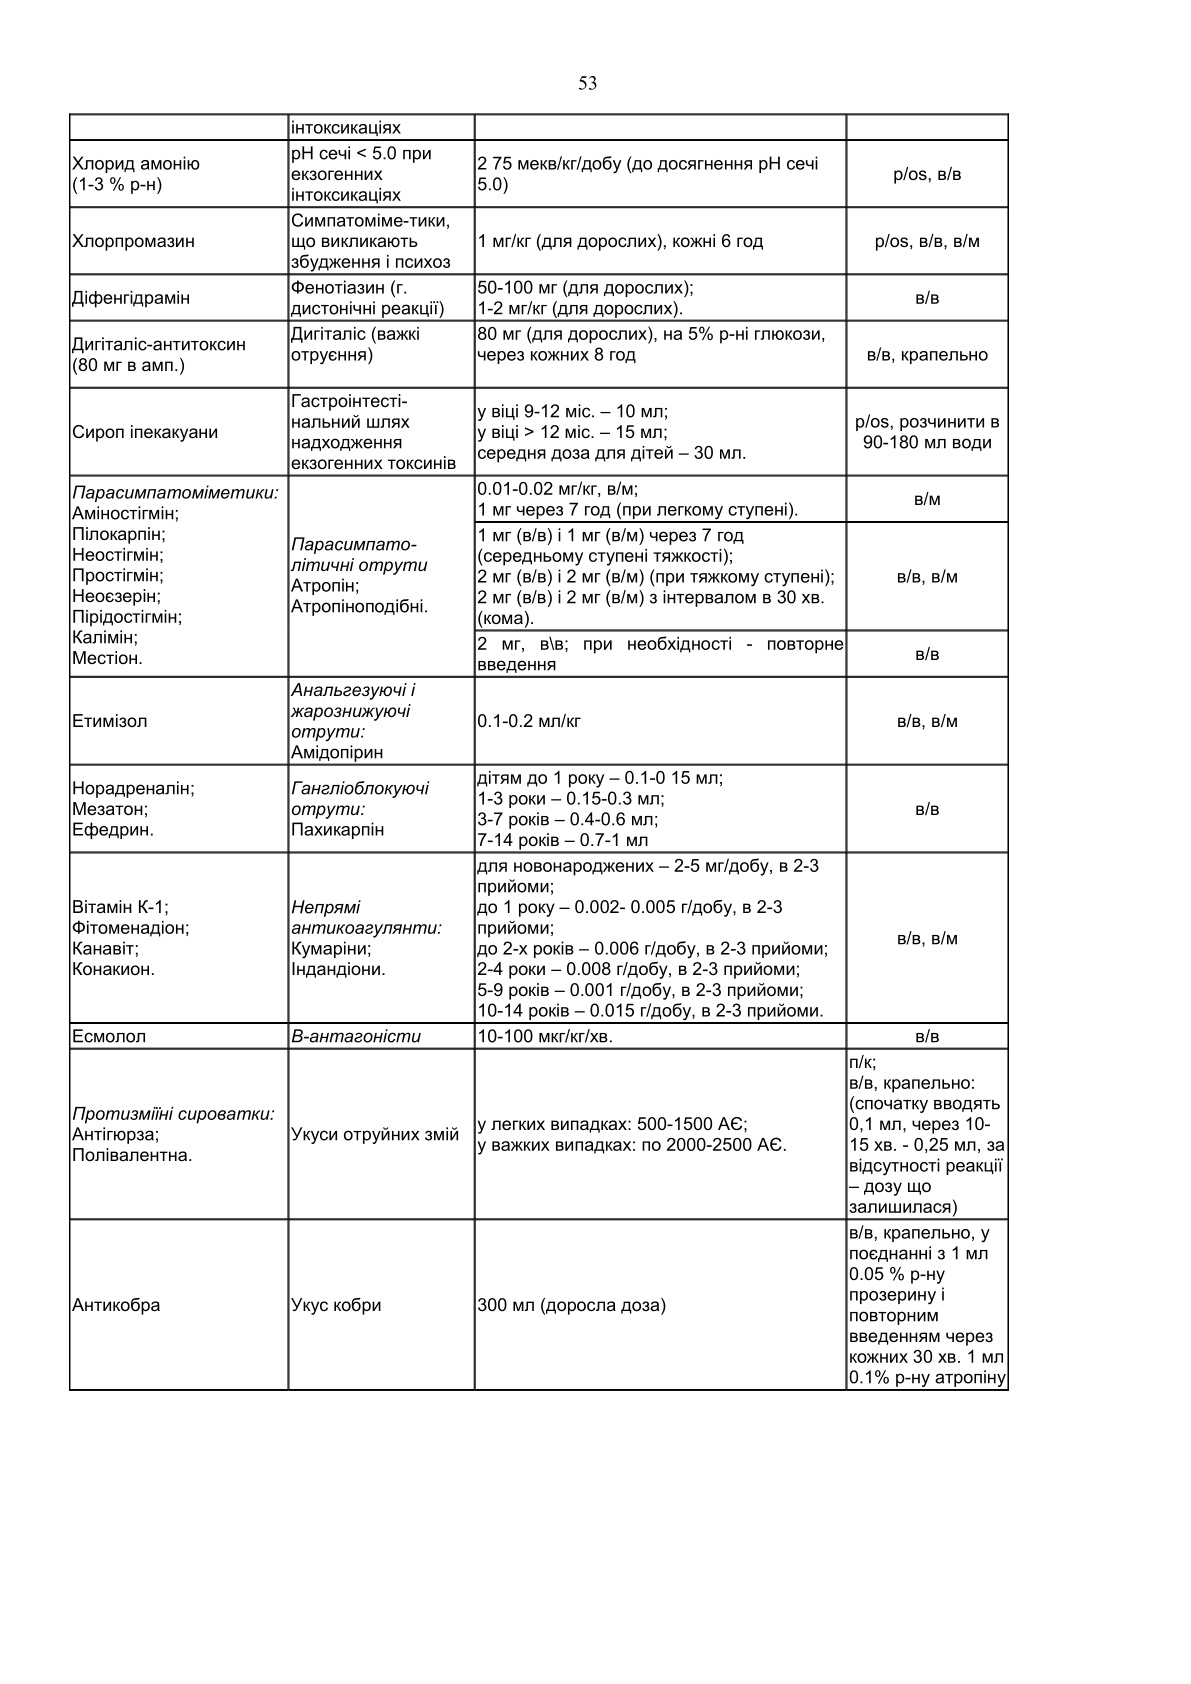full_lined: (68, 112, 1011, 1392)
